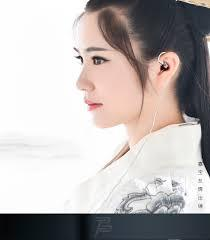earphone: (156, 61, 171, 76)
